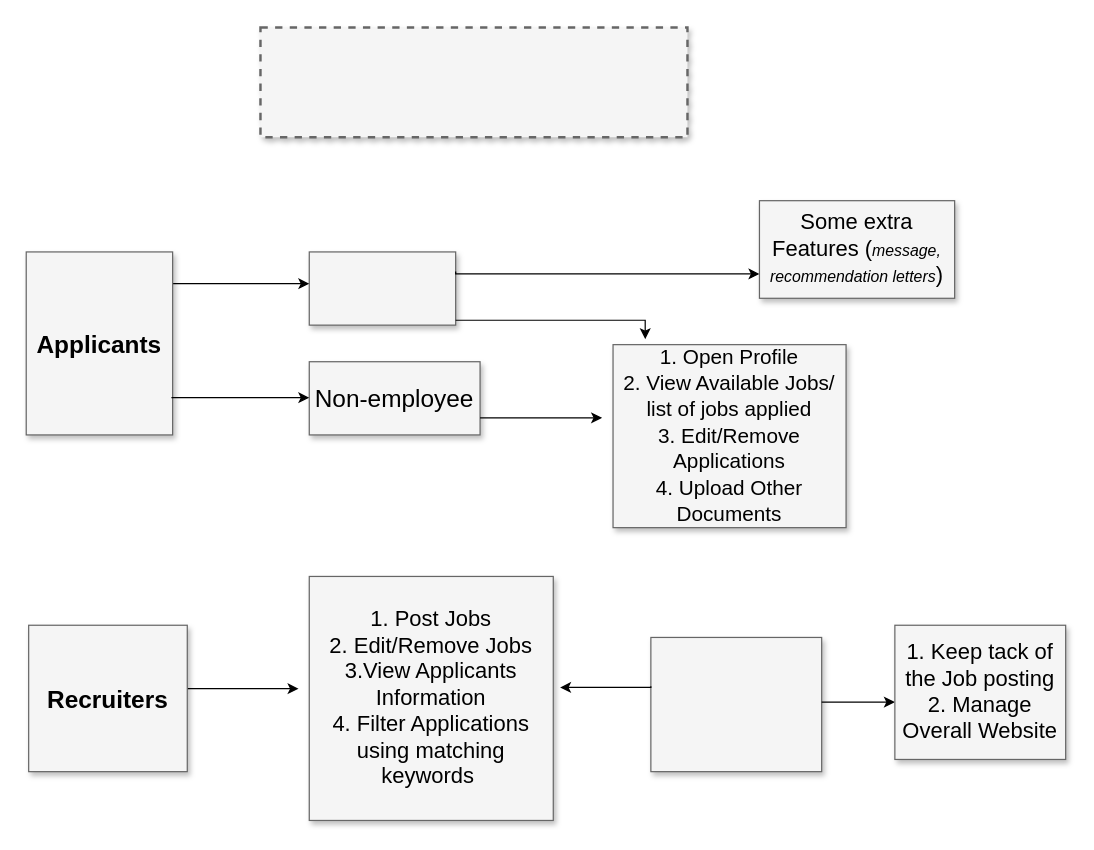
The diagram is 1094 pixels wide and 850 high, and some of its shapes have lost their labels. Each missing label, with the centre of its shape:
Administrator: (737,705)
Employee: (383,290)
Online Job Search Platform: (474,83)
